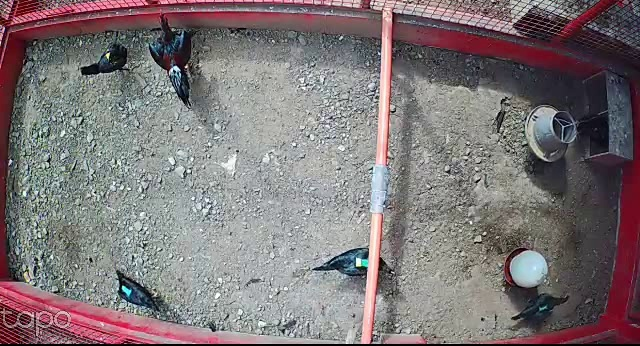Chicken: (309, 246, 401, 287), (111, 264, 165, 317), (79, 41, 131, 83), (509, 292, 572, 325)
Drinker: (503, 247, 550, 289)
Feeder: (524, 104, 581, 163)
Rooster: (145, 11, 205, 108)
Saddle_Color_Blue: (121, 285, 132, 295)
Saddle_Color_Yellow: (105, 50, 111, 59)
Saddle_Color_YellowGreen: (355, 258, 369, 266)
